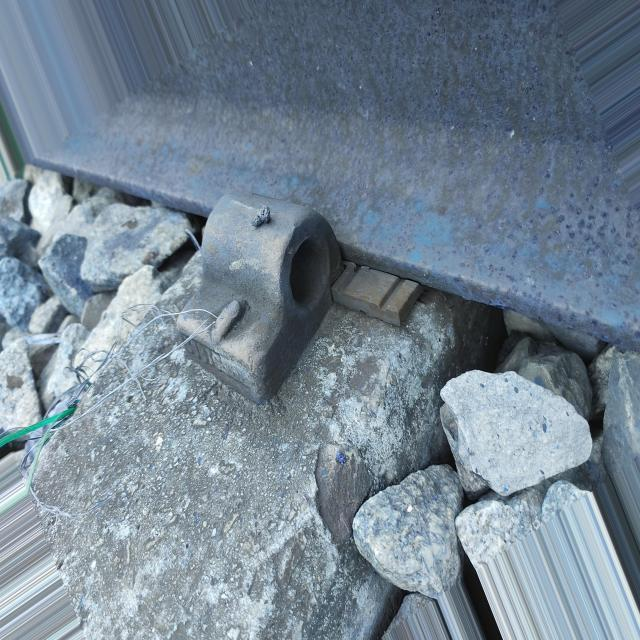Missing Fastener: (157, 154, 390, 444)
